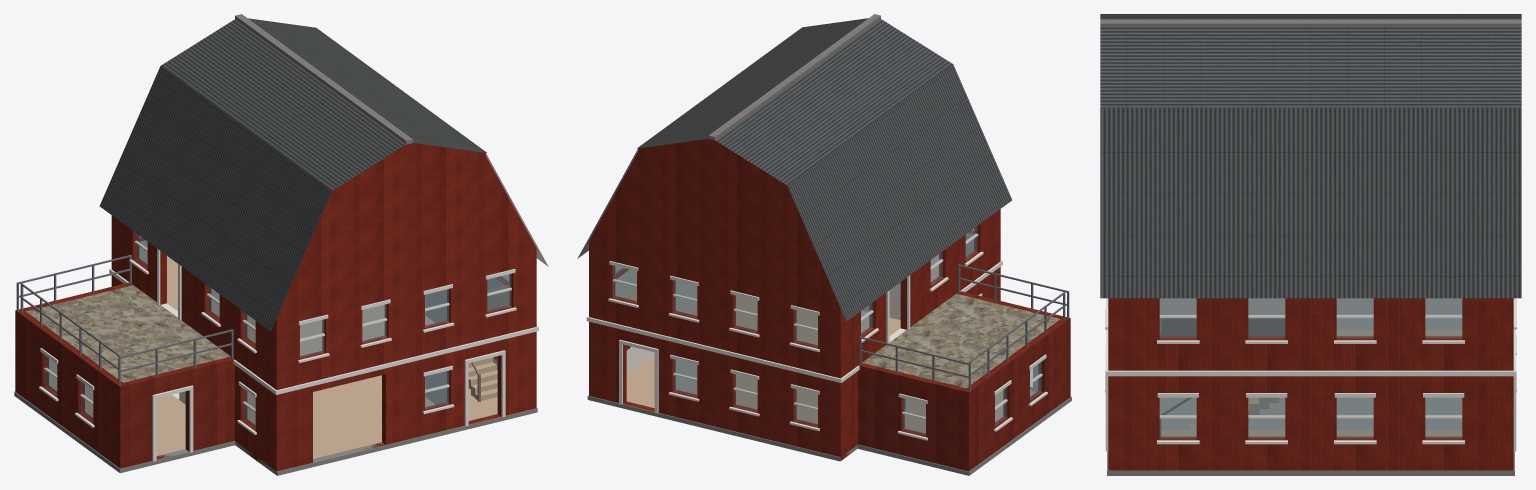
Rendered from cr-barn-lofts.towns-v1.lod0.glb.
3 renders of one model, left to right at view 1: azimuth 30°, elevation 25°; view 2: azimuth 150°, elevation 25°; view 3: azimuth 270°, elevation 25°, orthographic. The views are drawn at different scales.
Visible parts, largest first — view 1: cr-barn-lofts; view 2: cr-barn-lofts; view 3: cr-barn-lofts.
Boxes of the visible parts, <box> form: cr-barn-lofts: <box>14,14,548,475</box>; cr-barn-lofts: <box>577,14,1071,475</box>; cr-barn-lofts: <box>1100,14,1521,475</box>.
Bounding box in the file's own units: 14.84 × 11.25 × 11.42.
Materials: 7 (3 with a texture image).
